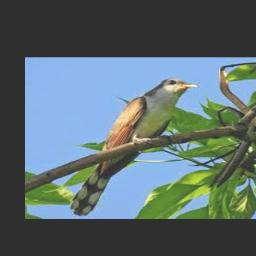Cuckoo: (69, 78, 199, 216)
